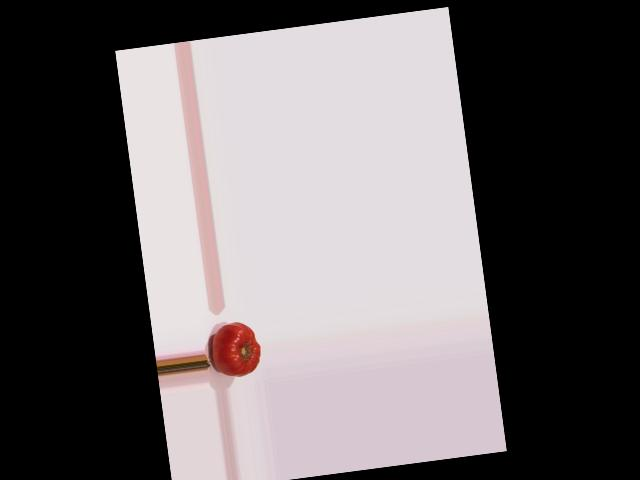tomato: (209, 320, 263, 379)
